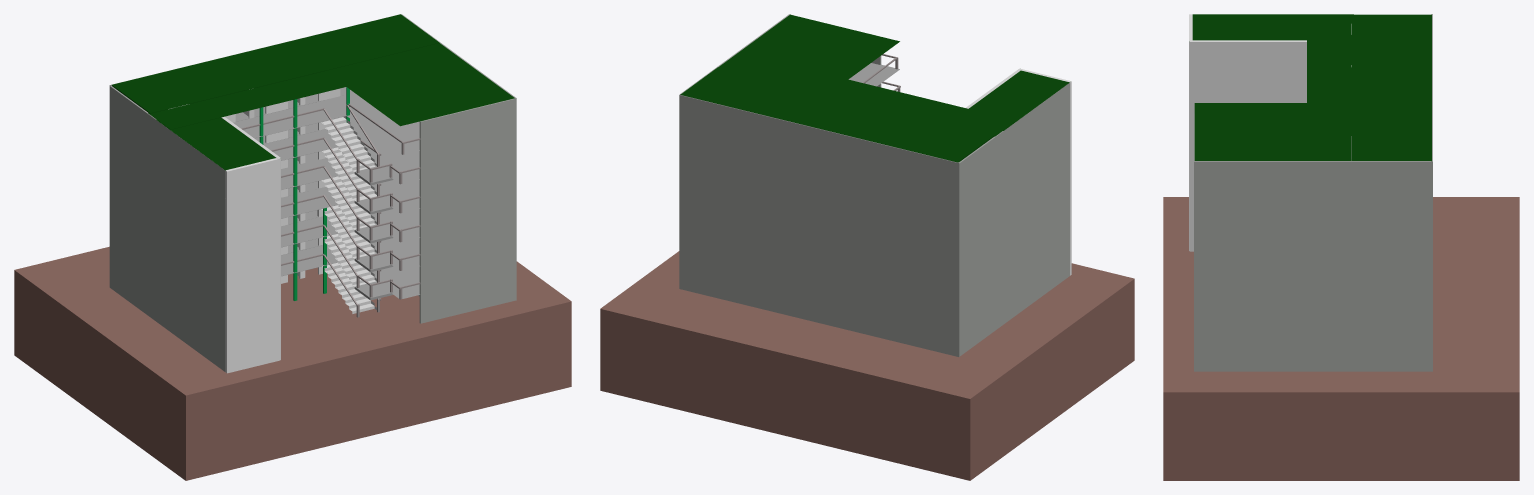
The model's file is SHS.glb.
3 renders of one model, left to right at view 1: azimuth 30°, elevation 25°; view 2: azimuth 150°, elevation 25°; view 3: azimuth 270°, elevation 25°, orthographic. The views are drawn at different scales.
Parts seen in each view (by area): view 1: Cube.068, Cube.001, Cube.024, Cube.010, Cube.065, Cube.067, Cube.078, Cube.066, Cube.064, Cube.062, Cube.056, Cube.600 (+17 smaller); view 2: Cube.068, Cube.002, Cube.001, Cube.065, Cube.067, Cube.078, Cube.066, Cube.064; view 3: Cube.068, Cube.023, Cube.065, Cube.067, Cube, Cube.078, Cube.066, Cube.002.
Boxes of the visible parts, x1,y1,x2,y2 form: Cube.068: [14, 246, 571, 480]; Cube.001: [109, 86, 225, 371]; Cube.024: [419, 98, 515, 323]; Cube.010: [225, 158, 280, 373]; Cube.065: [112, 14, 439, 113]; Cube.067: [325, 43, 514, 126]; Cube.078: [148, 71, 345, 129]; Cube.066: [156, 117, 275, 170]; Cube.064: [325, 93, 419, 155]; Cube.062: [233, 100, 345, 138]; Cube.056: [325, 122, 419, 183]; Cube.600: [321, 116, 376, 171]; Cube.068: [600, 251, 1134, 480]; Cube.002: [679, 95, 959, 356]; Cube.001: [959, 83, 1069, 356]; Cube.065: [680, 67, 994, 162]; Cube.067: [718, 14, 899, 93]; Cube.078: [828, 79, 1016, 136]; Cube.066: [969, 70, 1069, 130]; Cube.064: [848, 63, 899, 86]; Cube.068: [1163, 197, 1519, 480]; Cube.023: [1194, 161, 1431, 371]; Cube.065: [1351, 14, 1431, 161]; Cube.067: [1194, 103, 1350, 160]; Cube: [1189, 40, 1306, 251]; Cube.078: [1307, 14, 1353, 135]; Cube.066: [1189, 14, 1306, 41]; Cube.002: [1431, 14, 1432, 371].
Size of the model in its own units: 4.17 by 2.98 by 3.21.
